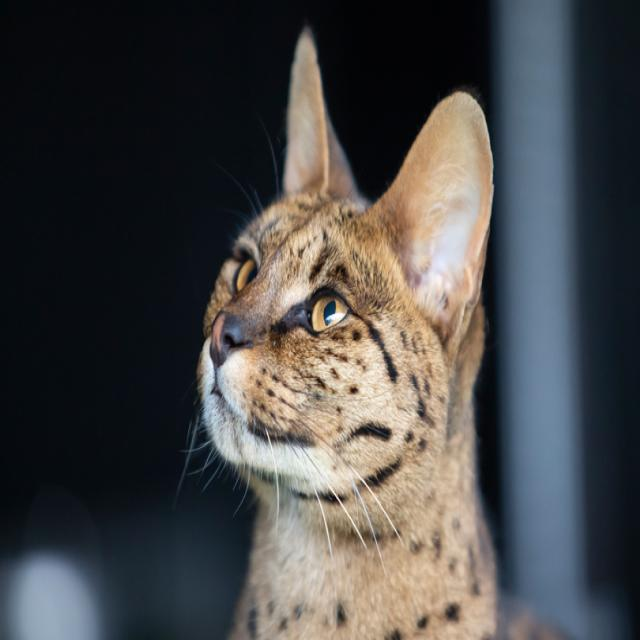Savannah: (191, 23, 604, 640)
